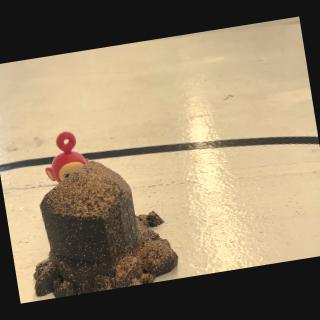teletubby: (46, 132, 89, 183)
